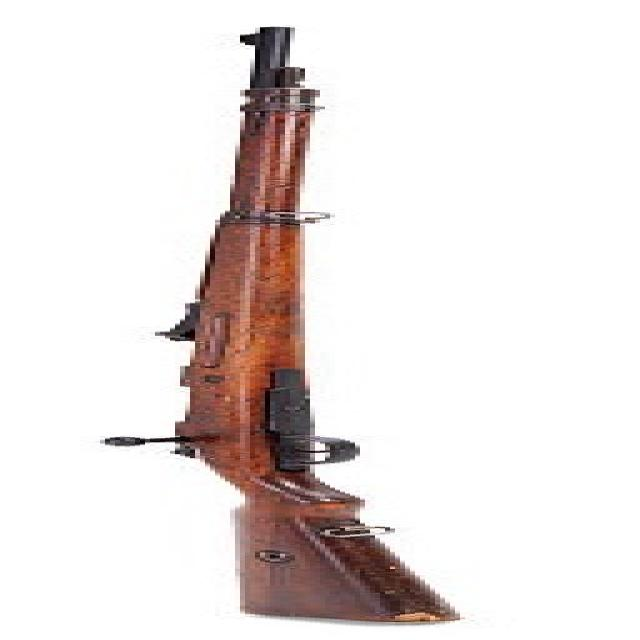rifle: (119, 22, 497, 631)
